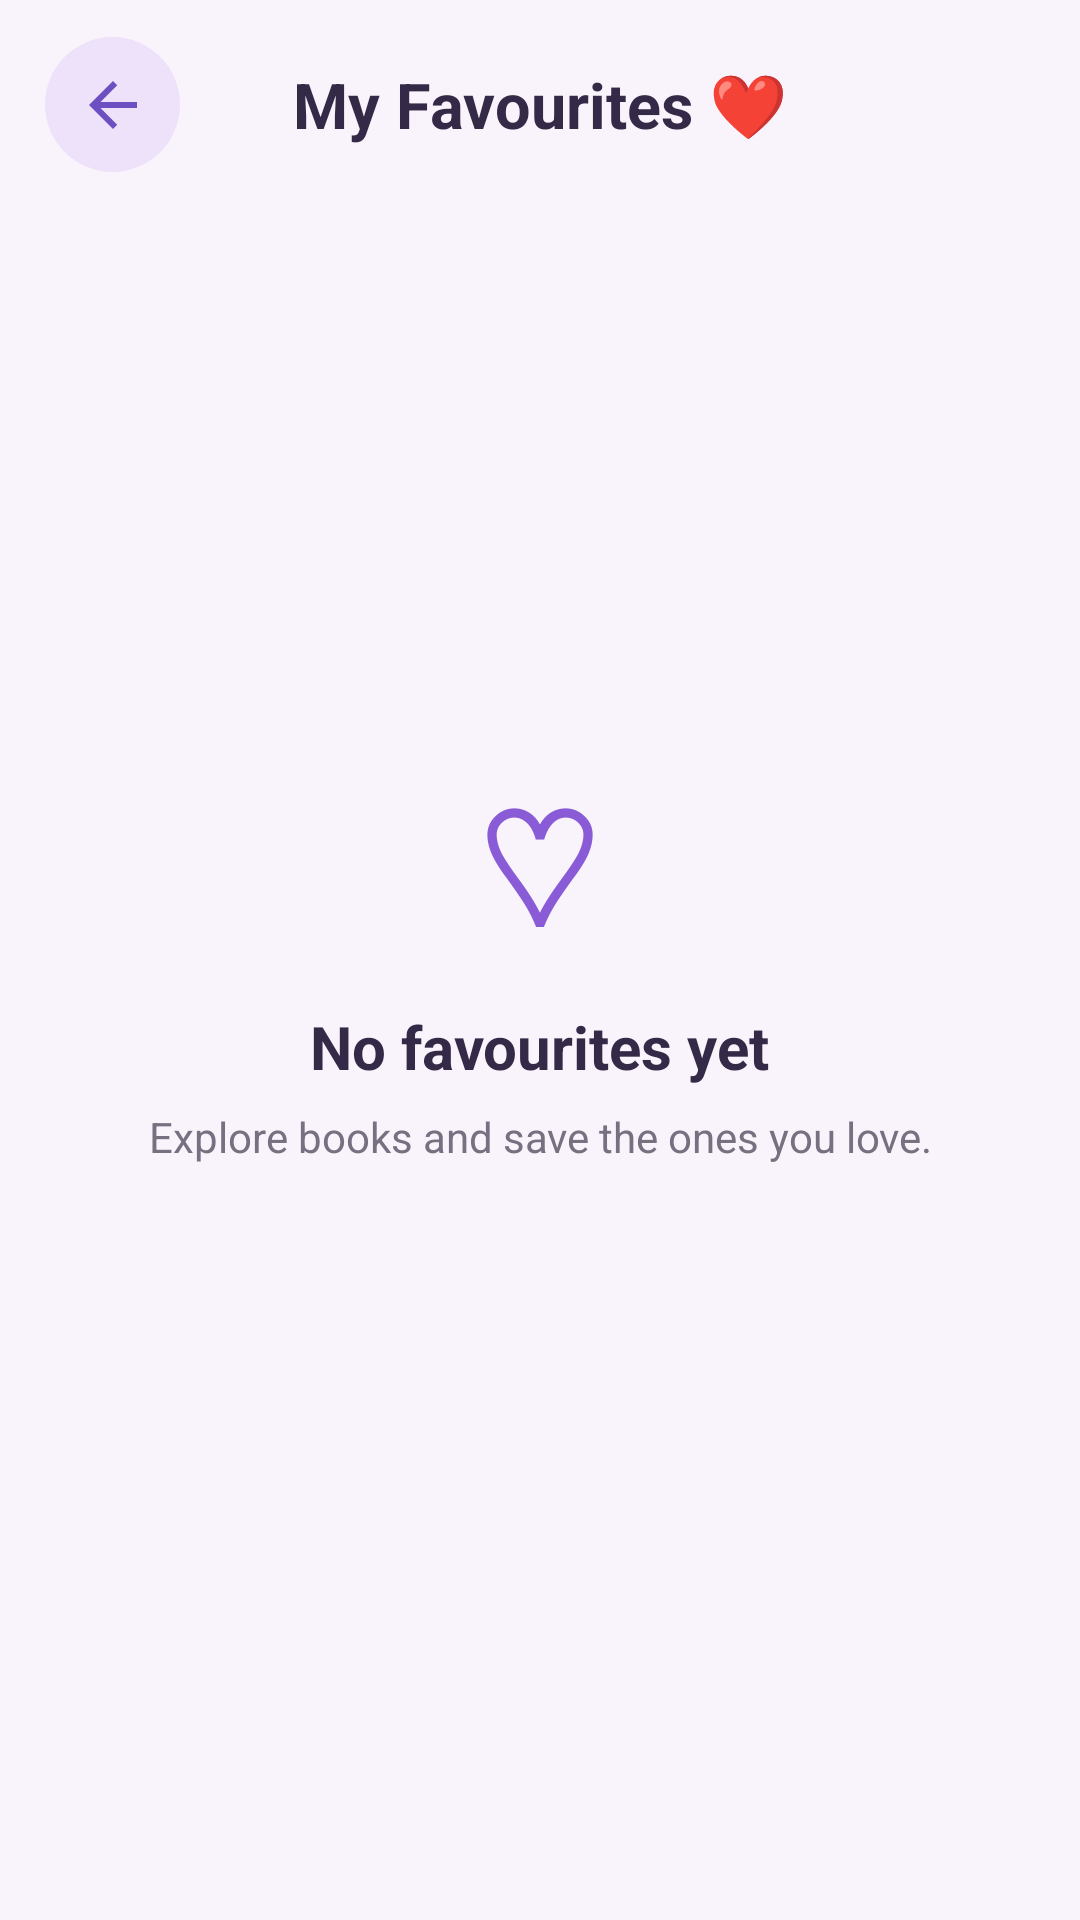

Where icons sit on this 1080w x 1920h app screen, as (x1, y1, x2, y2):
Back: (45, 37, 180, 172)
